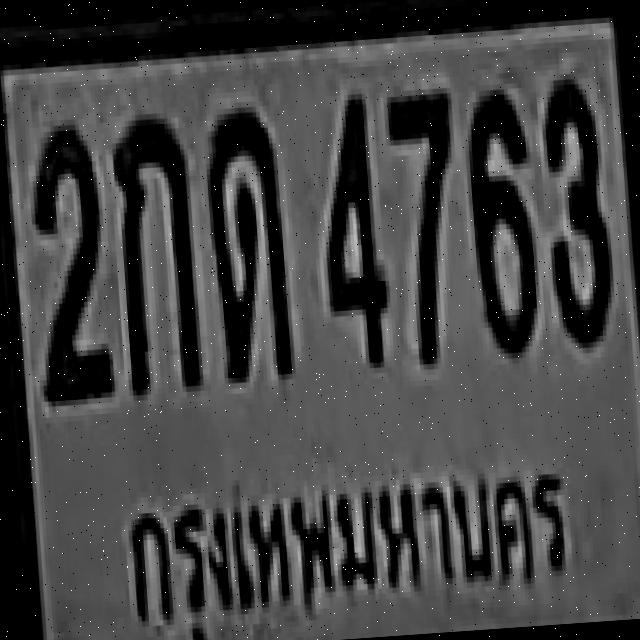10GorGai: (110, 112, 200, 396)
2: (24, 118, 111, 402)
3: (534, 72, 610, 344)
4: (311, 87, 391, 365)
6: (461, 83, 536, 355)
7: (382, 87, 465, 366)
Bangkok: (101, 442, 587, 640)
